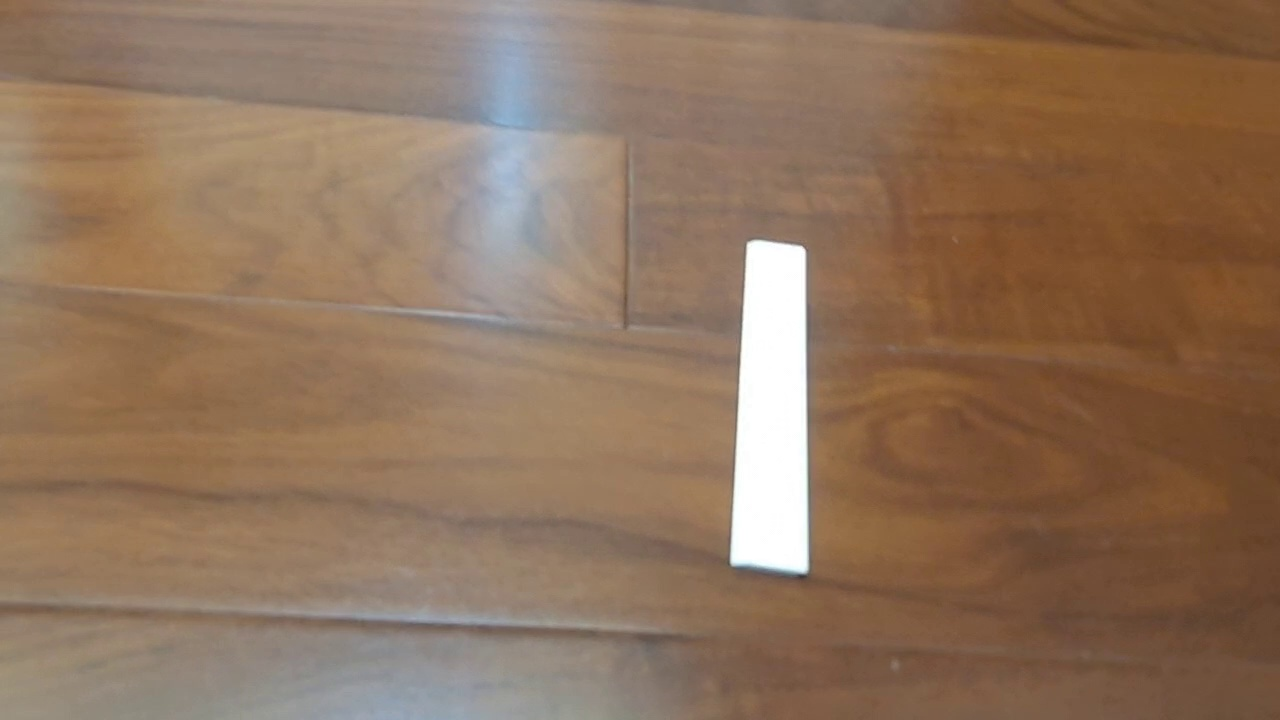ruler: (728, 237, 811, 579)
